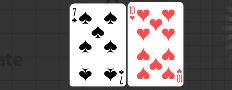10H: (175, 67, 182, 83)
7C: (71, 6, 78, 24)
